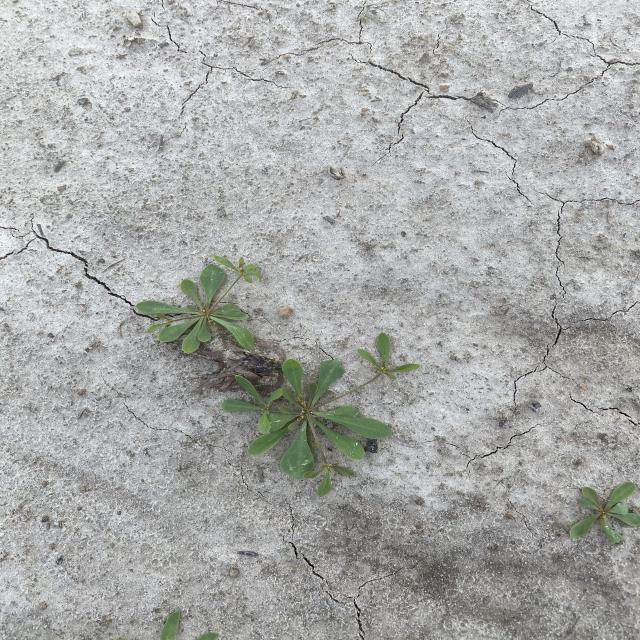Carpetweed: (219, 332, 422, 498), (134, 254, 265, 355), (568, 480, 639, 548)
